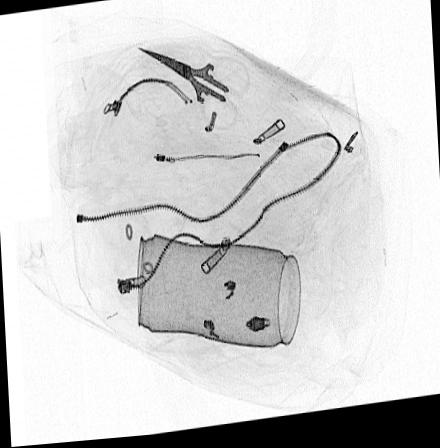Scissors: (129, 42, 252, 136)
